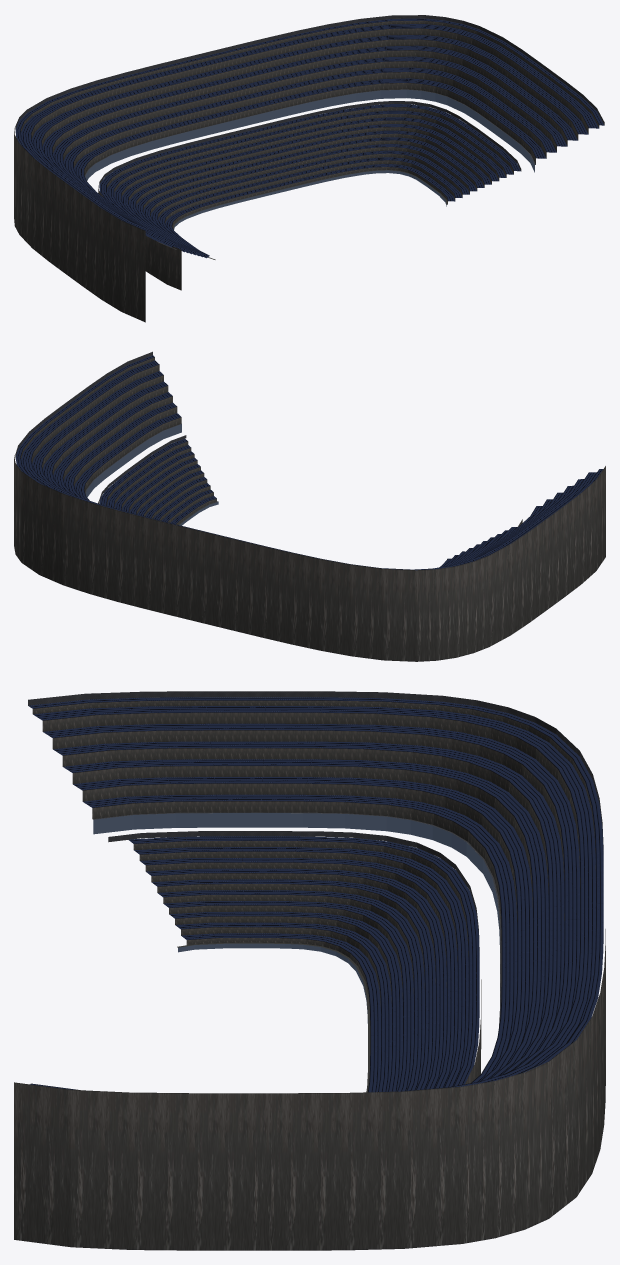
The model's file is table.glb.
3 renders of one model, top to bottom at view 1: azimuth 30°, elevation 25°; view 2: azimuth 150°, elevation 25°; view 3: azimuth 270°, elevation 25°, orthographic. The views are drawn at different scales.
Visible parts, largest first — view 1: table; view 2: table; view 3: table.
Part boxes in pixels (left/top/right/bottom): table: left=14, top=15, right=604, bottom=322; table: left=14, top=351, right=605, bottom=661; table: left=14, top=691, right=605, bottom=1250.
Bounding box in the file's own units: 239 × 43.53 × 148.
3 materials, 2 textured.
